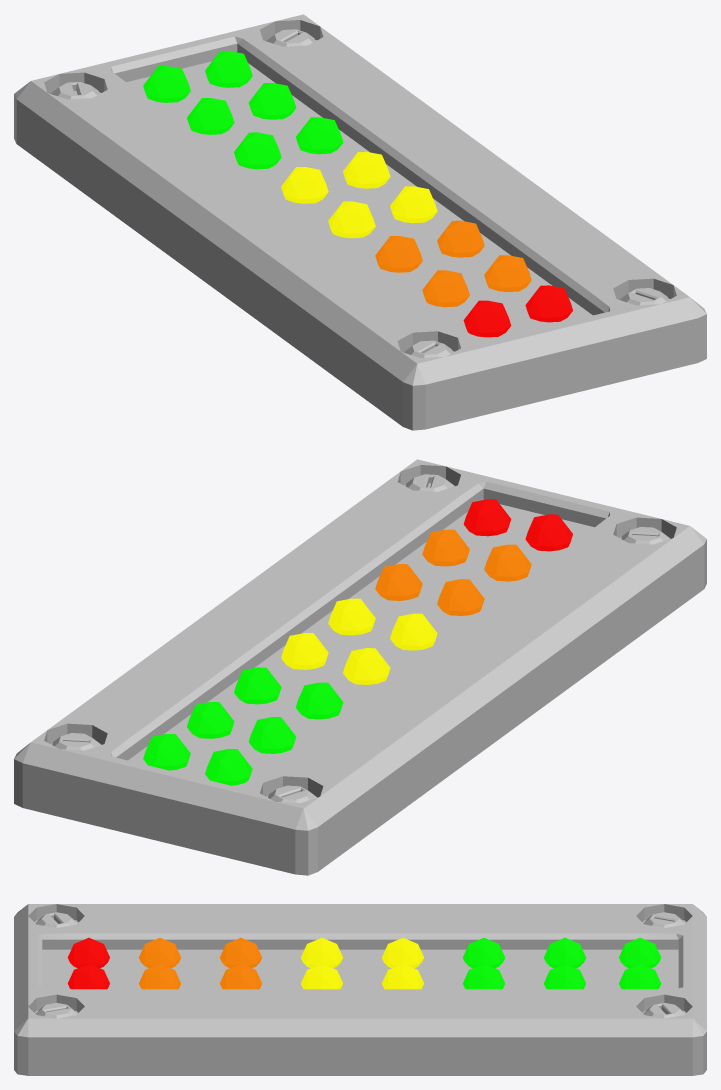
Rendered from NASA_Control_PotentiometerX2.FBX.
3 renders of one model, top to bottom at view 1: azimuth 30°, elevation 25°; view 2: azimuth 150°, elevation 25°; view 3: azimuth 270°, elevation 25°, orthographic. The views are drawn at different scales.
Visible parts, largest first — view 1: Box353, Bulbs LF; view 2: Box353, Bulbs LF; view 3: Box353, Bulbs LF.
Part boxes in pixels (bbox=[...]): Box353: bbox=[14, 14, 706, 430]; Bulbs LF: bbox=[143, 51, 572, 337]; Box353: bbox=[14, 459, 706, 875]; Bulbs LF: bbox=[143, 499, 572, 785]; Box353: bbox=[14, 904, 706, 1075]; Bulbs LF: bbox=[67, 937, 661, 989].
Bounding box in the file's own units: 9.5 × 2.15 × 22.
